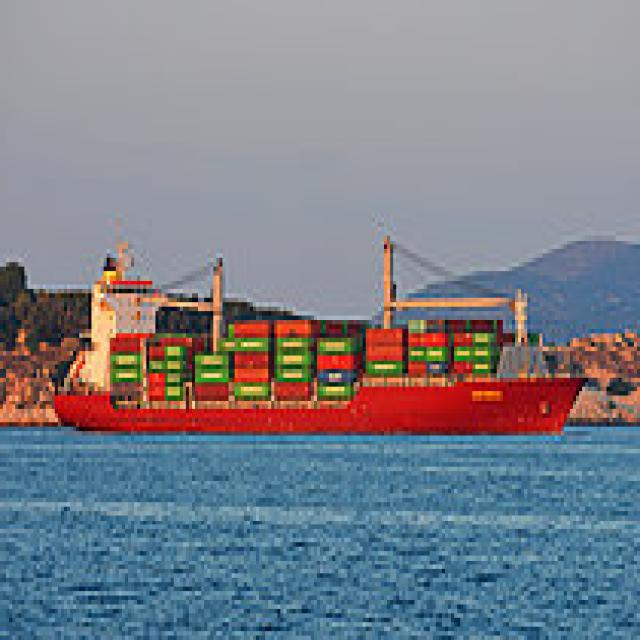Cargo: (52, 271, 597, 436)
